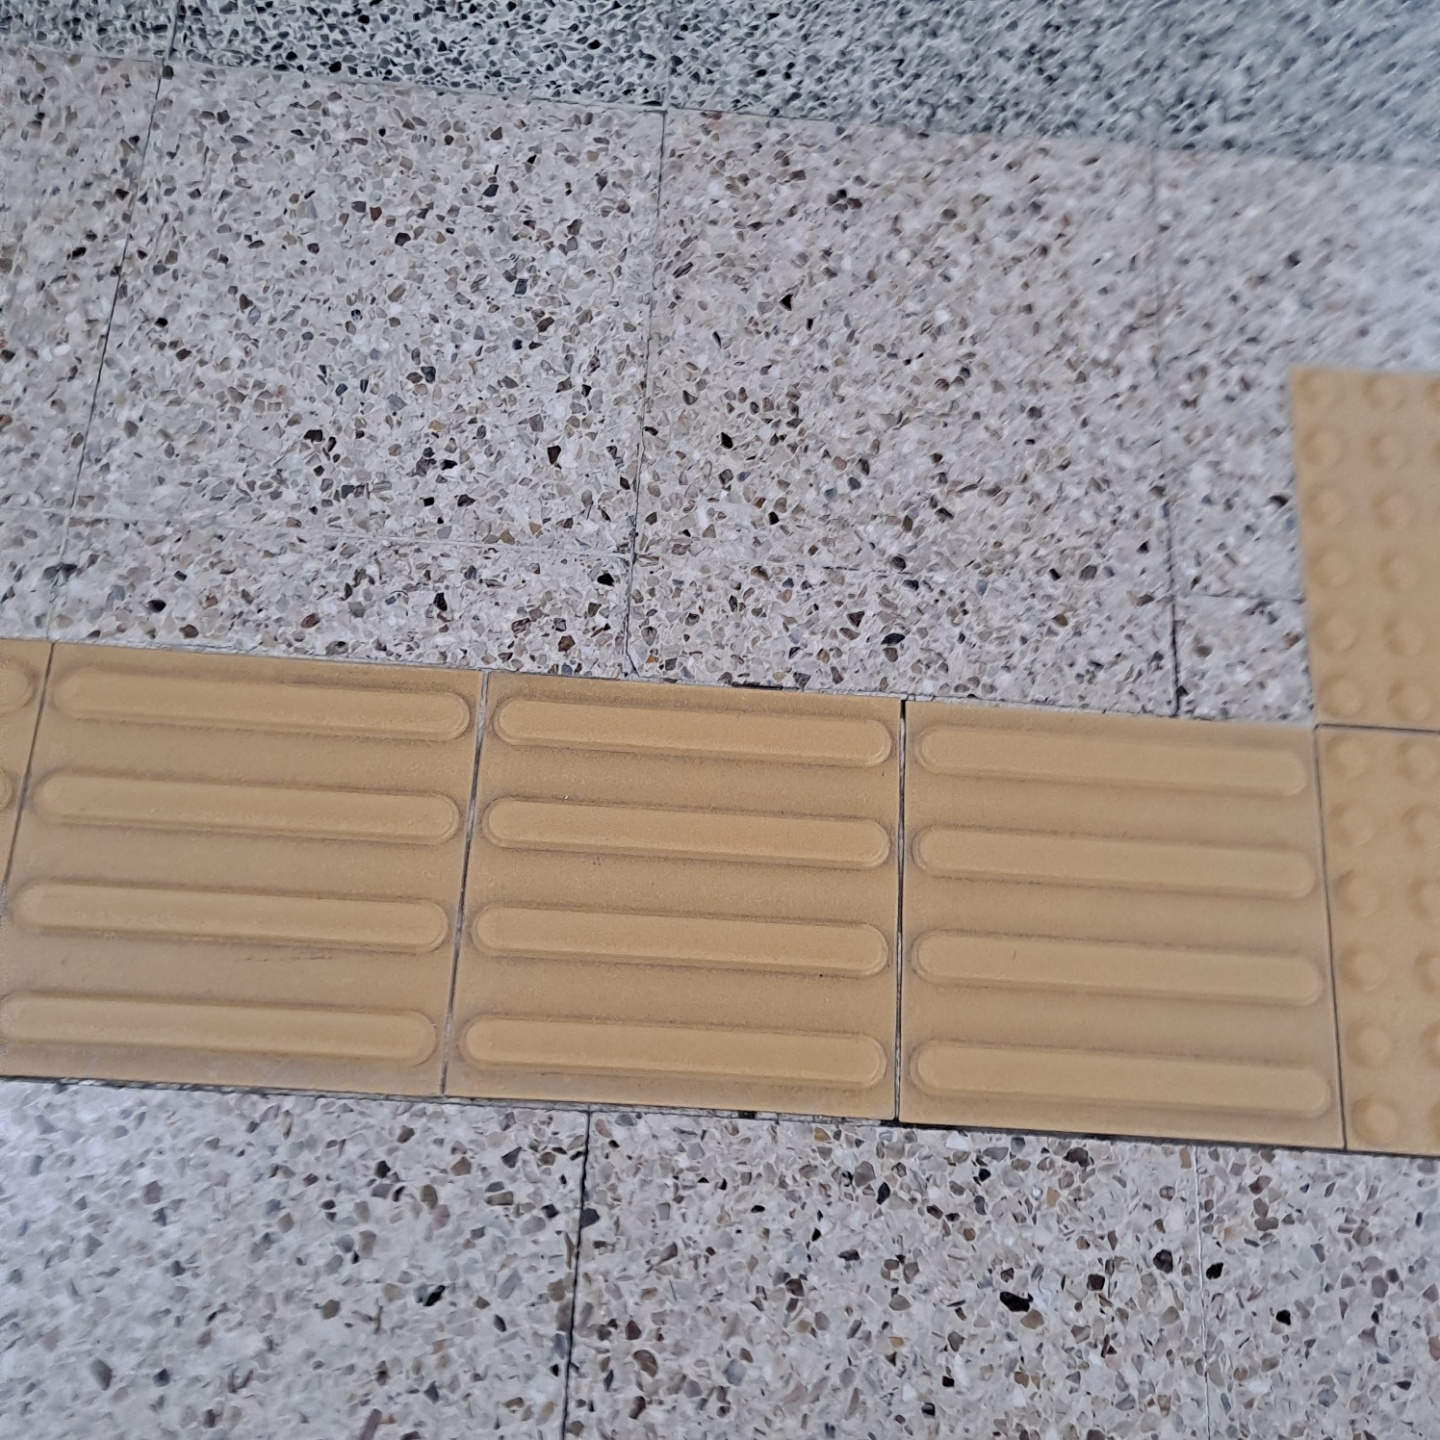guideBlock: (911, 686, 1367, 1131), (487, 690, 899, 1138), (41, 673, 462, 1092)
